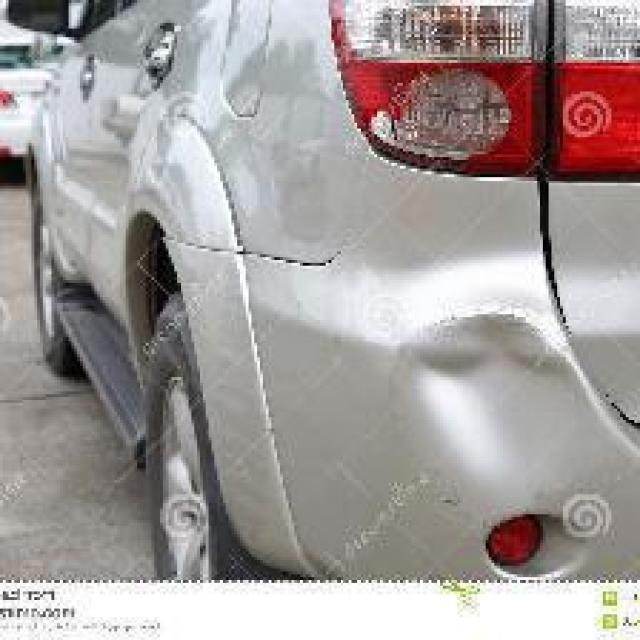damaged: (394, 308, 589, 488)
